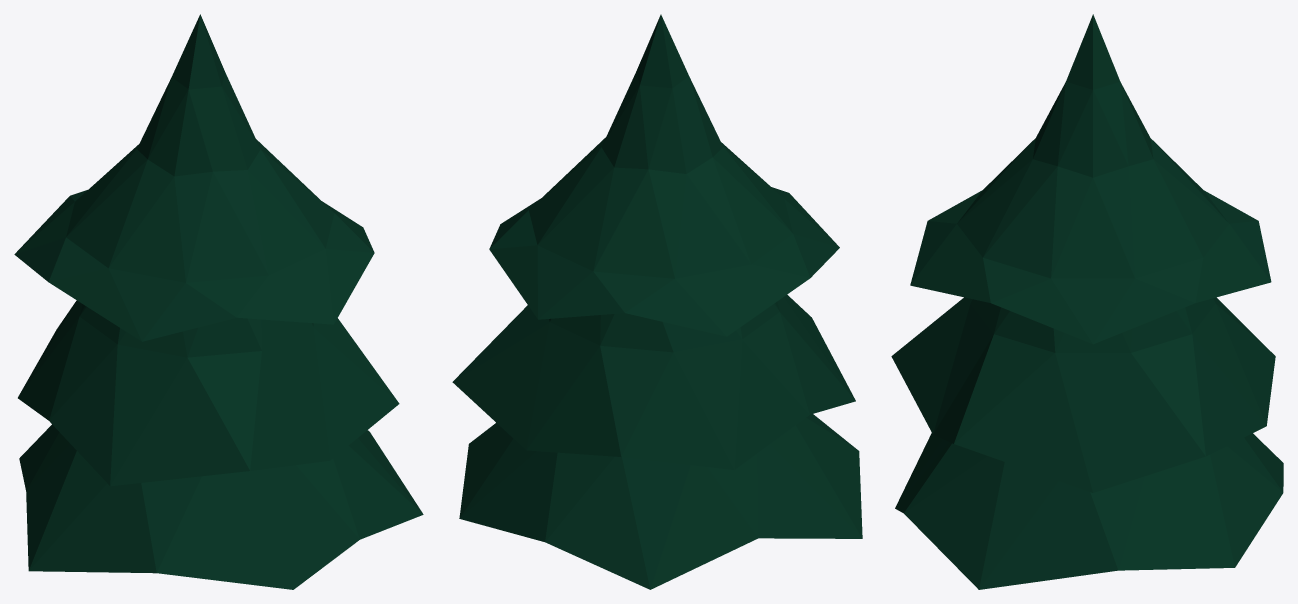
File: Tree.fbx
The picture shows the model from 3 angles, left to right: view 1: azimuth 30°, elevation 25°; view 2: azimuth 150°, elevation 25°; view 3: azimuth 270°, elevation 25°; orthographic projection.
Visible parts, largest first — view 1: Needles; view 2: Needles; view 3: Needles.
Part boxes in pixels (x1,y1,x2,y2): Needles: (14,14,423,589); Needles: (452,14,862,589); Needles: (891,14,1283,589).
Size of the model in its own units: 437 by 600 by 403.
